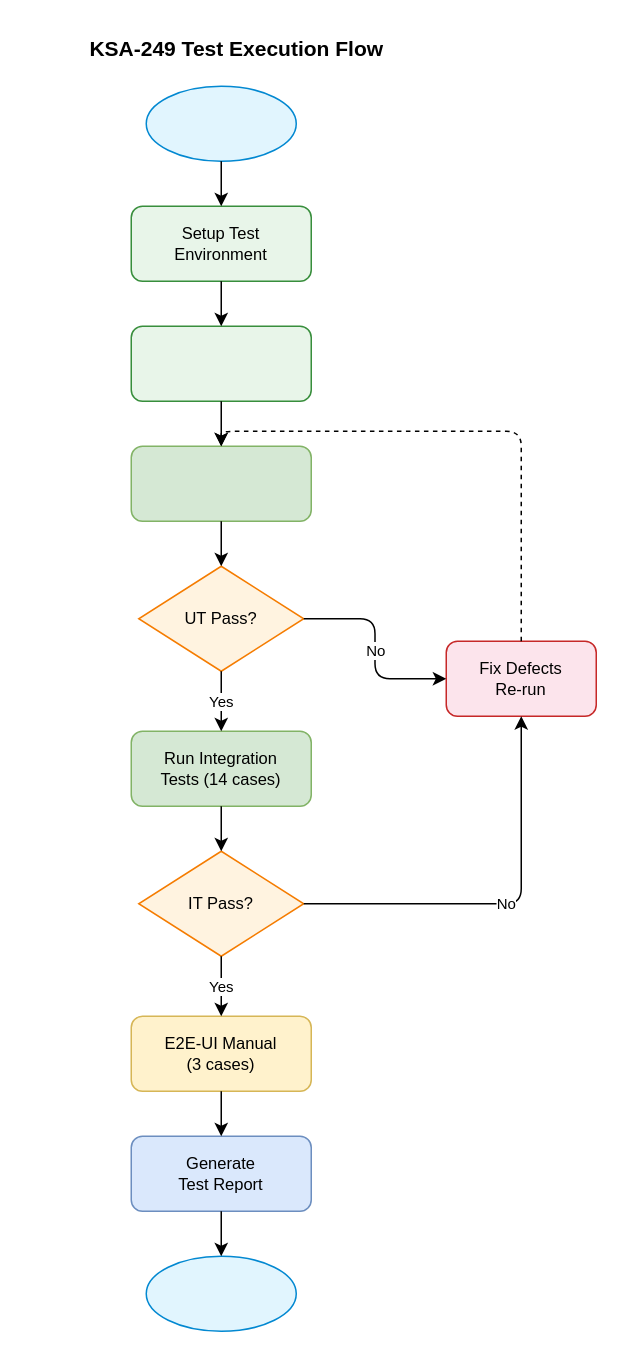
The diagram is 623 pixels wide and 1358 high, and some of its shapes have lost their labels. The shapes that lost their labels are listed below. From the top down, each one's centre as x and y in pixels, then its label:
the point at 220,123: Start Testing
the point at 220,363: Load Test Fixtures
the point at 220,483: Run Unit Tests (34 cases)
the point at 220,1293: Testing Complete
